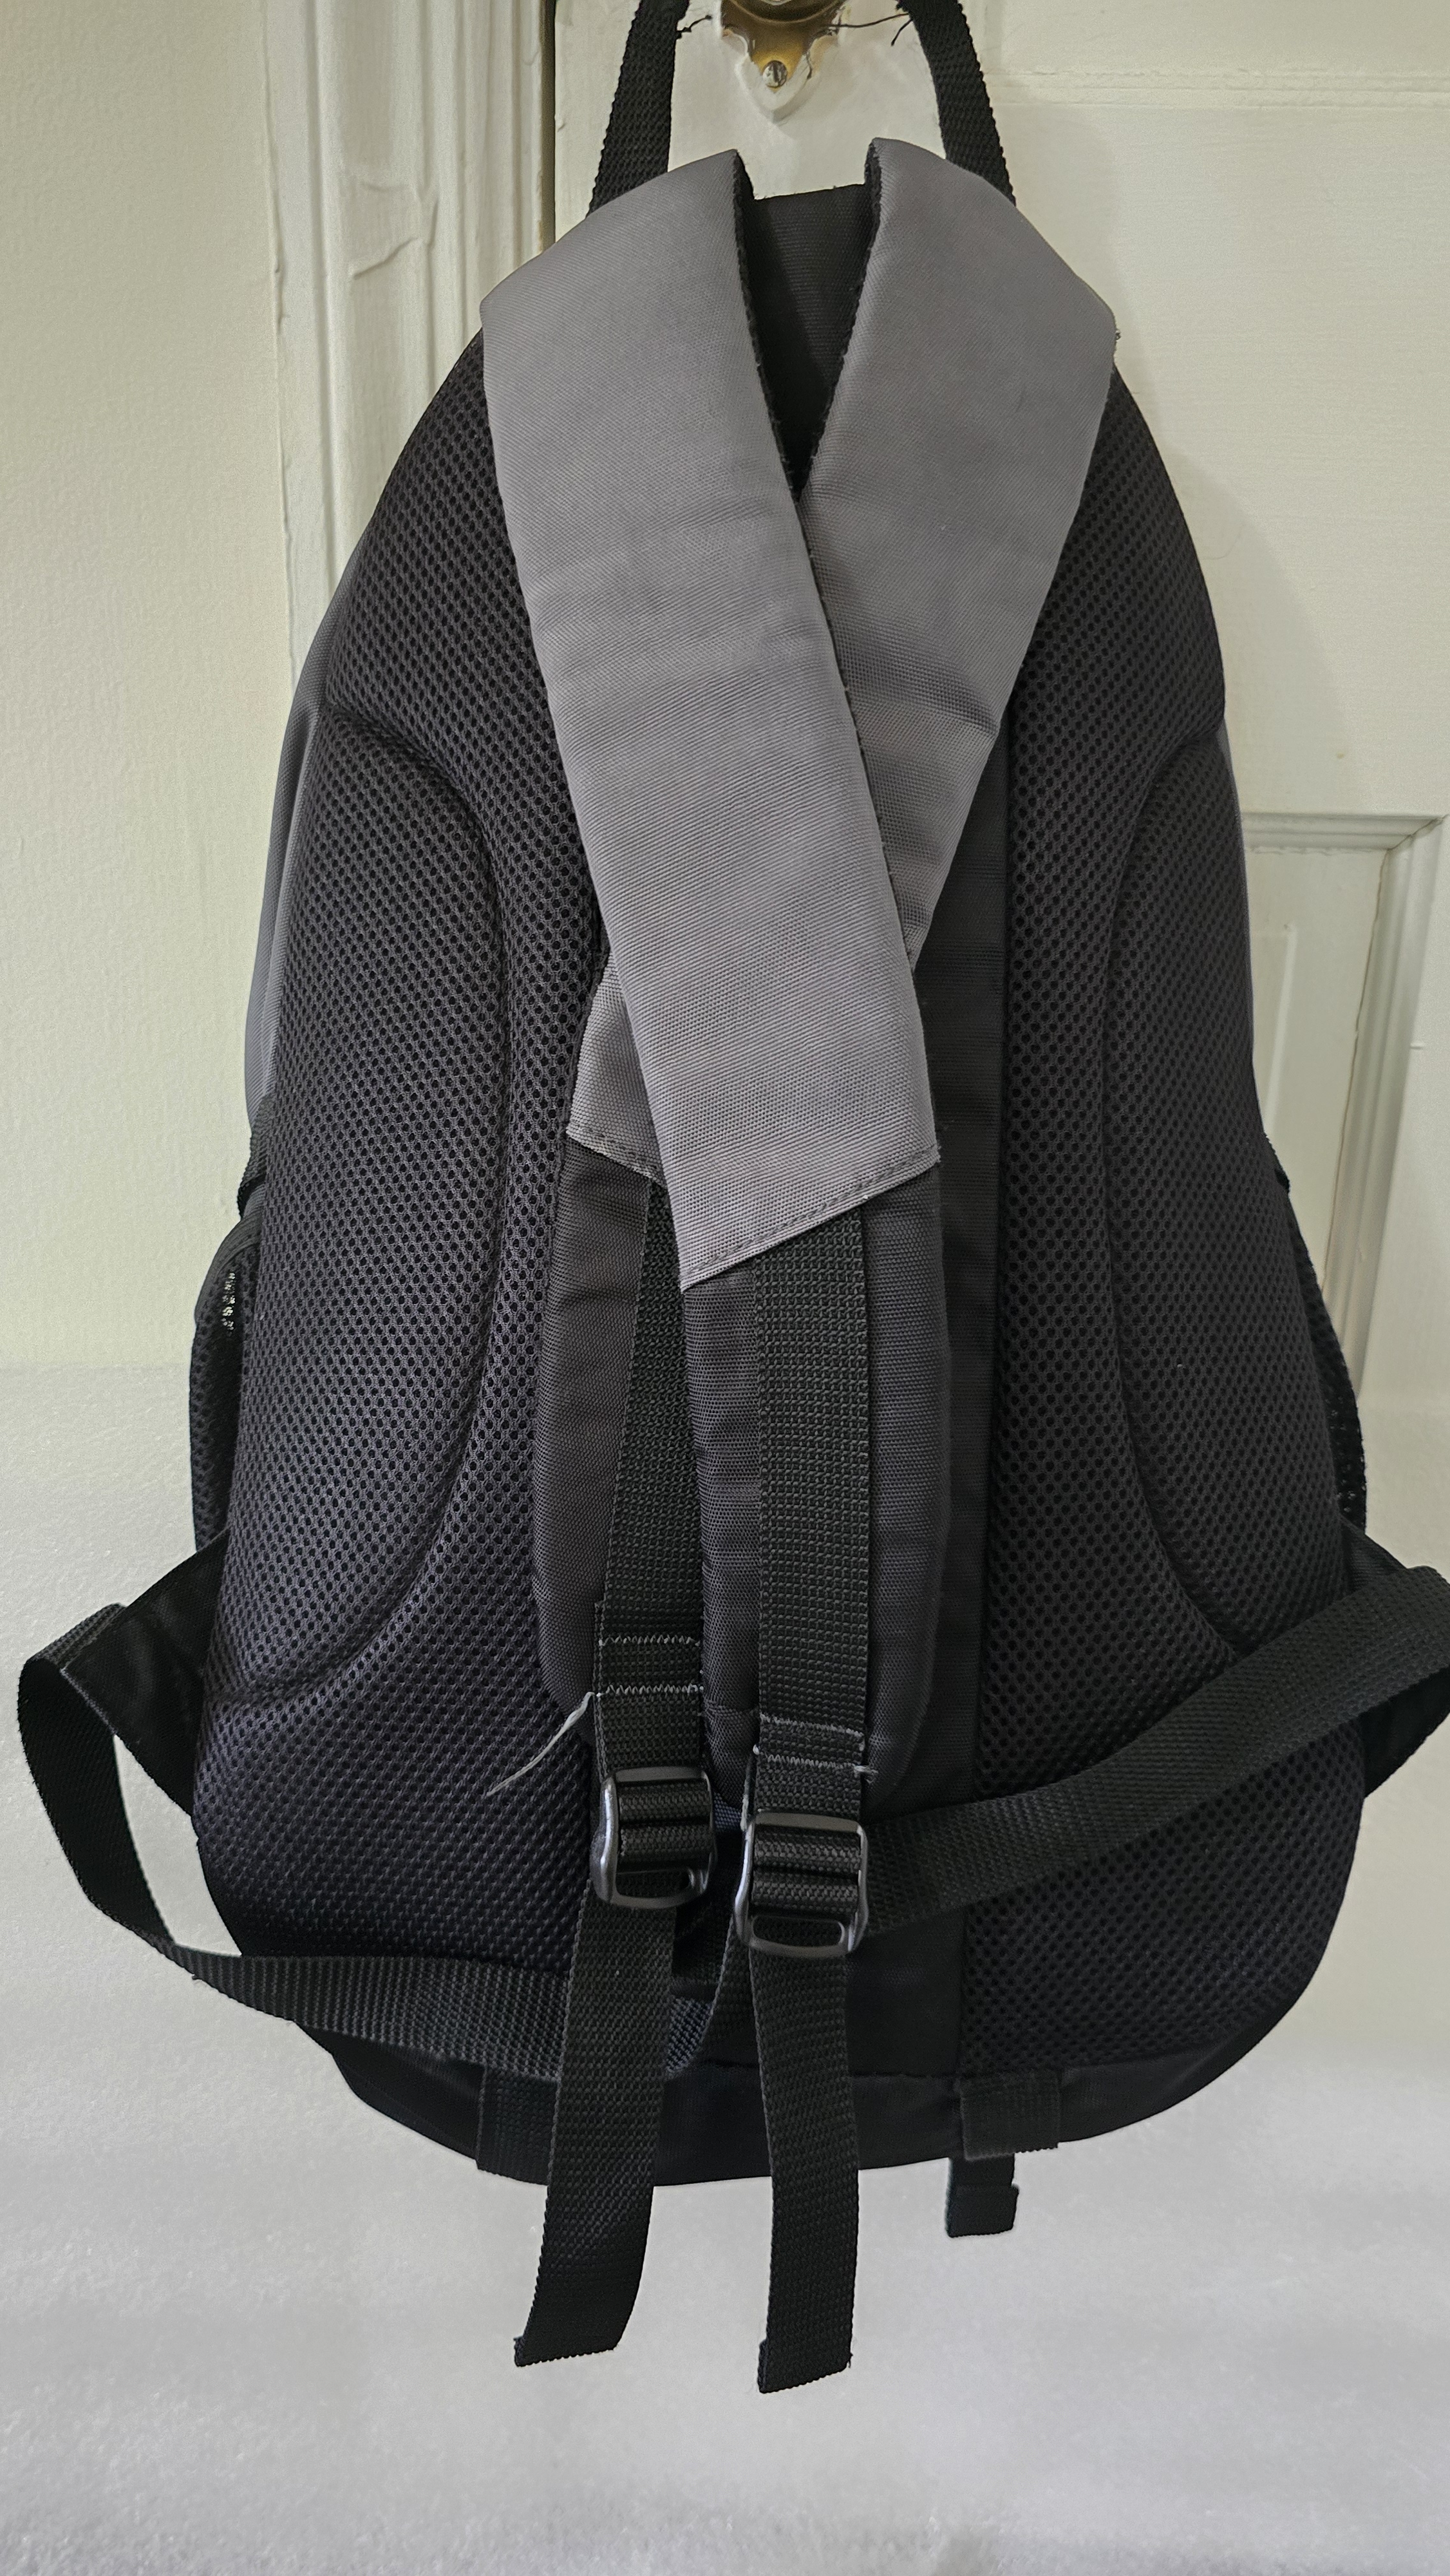bag: (97, 134, 1436, 2243)
